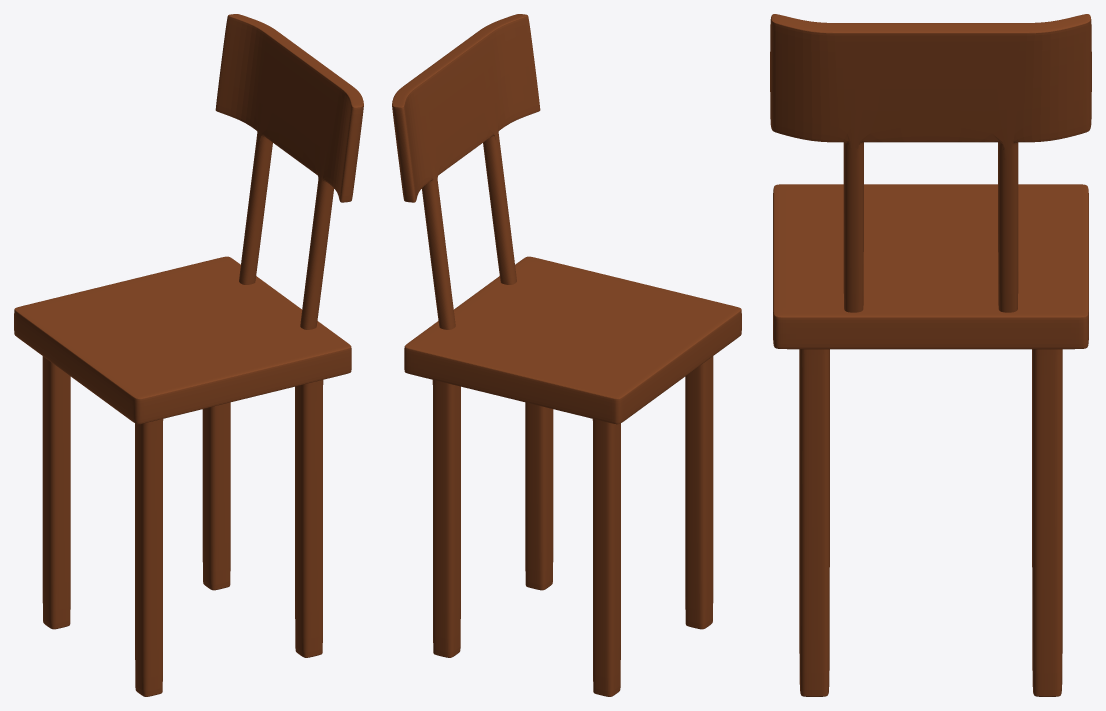
File: chair.glb
3 views of the same model, side by side, from view 1: azimuth 30°, elevation 25°; view 2: azimuth 150°, elevation 25°; view 3: azimuth 270°, elevation 25° (orthographic). The views are drawn at different scales.
Parts seen in each view (by area): view 1: Cube; view 2: Cube; view 3: Cube.
Boxes of the visible parts, box(x1,y1,x2,y2) form: Cube: box(14, 14, 363, 696); Cube: box(392, 14, 741, 696); Cube: box(770, 14, 1091, 696).
Size of the model in its own units: 0.9775 by 2.14 by 0.898.
